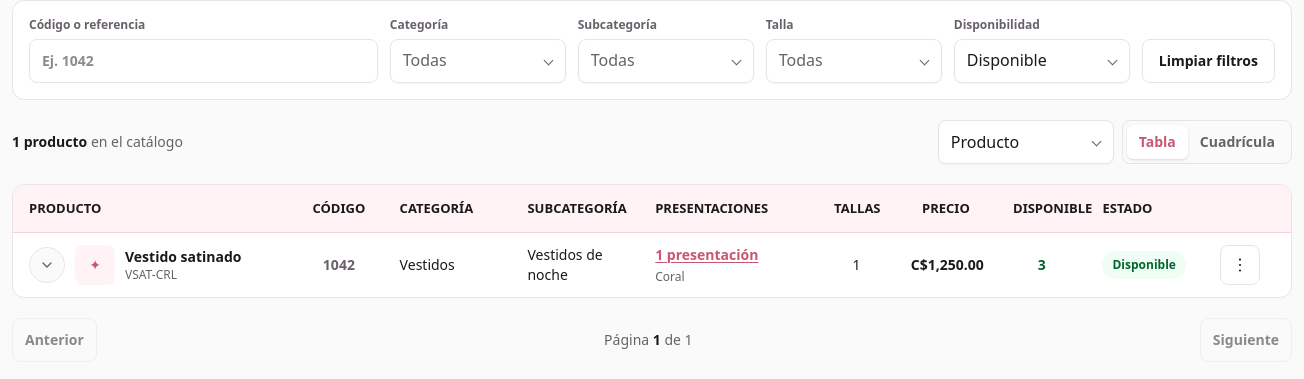
Test: ProductsPage › keeps successful category and size options when subcategories fail
Check: the text "Vestido satinado" is shown, box [125,247,242,266]
Click the button with aria-label "Categoría" at (478, 61), box [390,39,566,83]
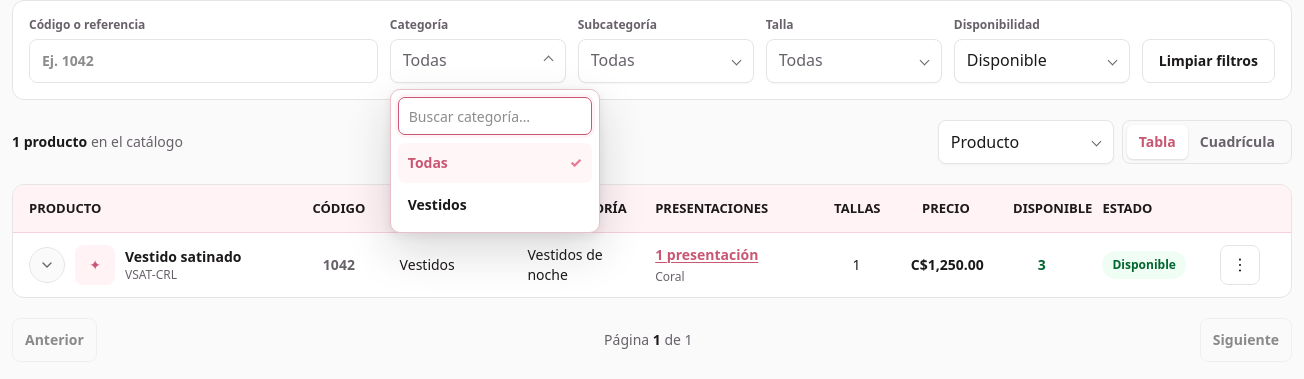
Check: the option "Vestidos" is shown
Click the option "Vestidos" at (495, 205), box [398,185,592,225]
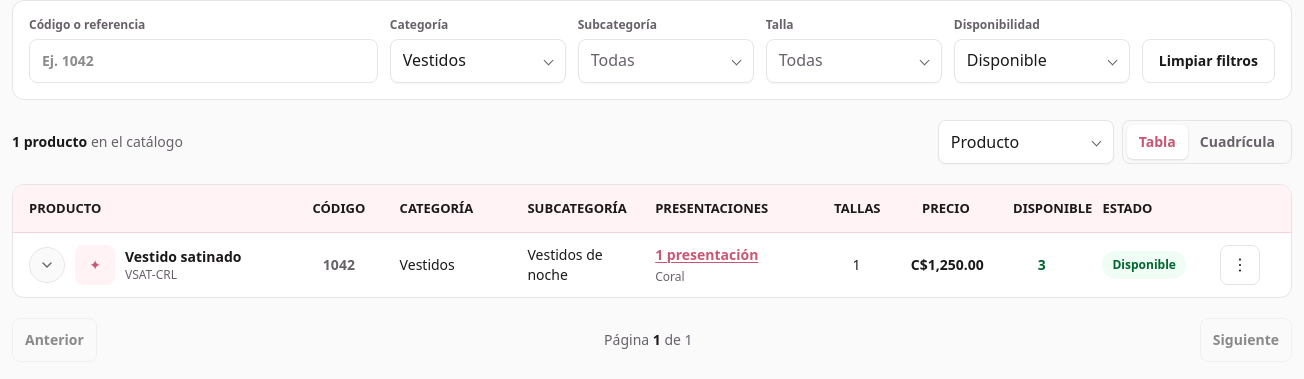
Click the button with aria-label "Talla" at (854, 61), box [766,39,942,83]
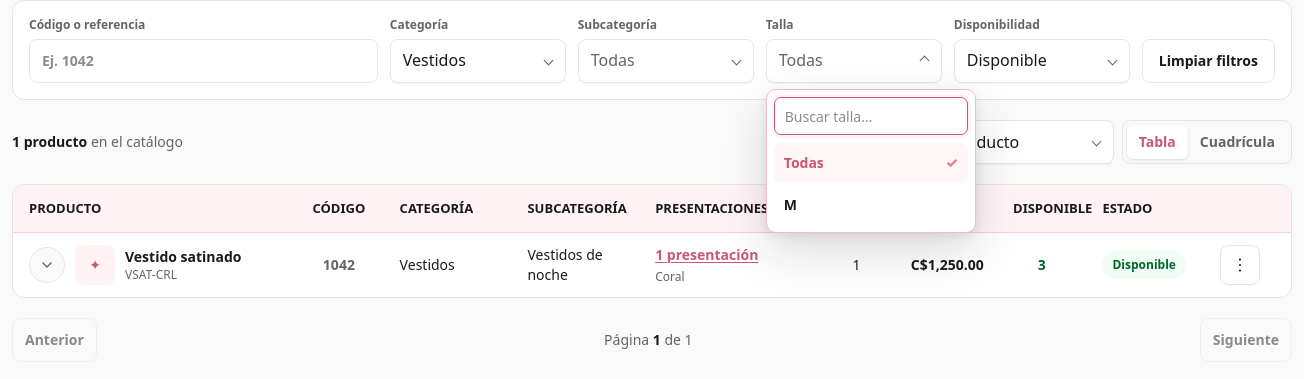
Check: the option "M" is shown, box [774,185,968,225]
